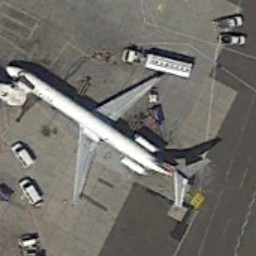Airplane: (2, 60, 217, 231)
